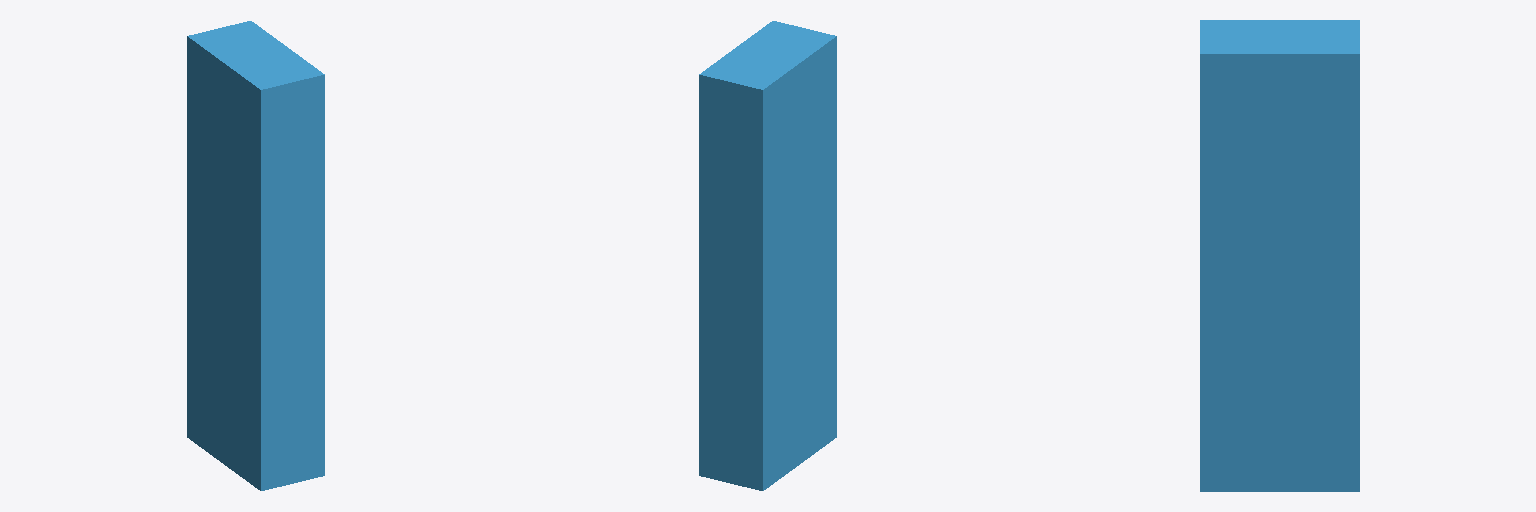
The robot description file, URDF, robot "cube":
<?xml version="1.0"?>
<robot name="cube">
    <link name="base_link"></link>

    <link name="cube_link">
        <visual>
            <origin rpy="0 0 0" xyz="0 0 0" />
            <geometry>
                <box size="0.05 0.1 0.3" />
            </geometry>
        </visual>
        <collision>
            <origin rpy="0 0 0" xyz="0 0 0" />
            <geometry>
                <box size="0.05 0.1 0.3" />
            </geometry>
        </collision>

        <inertial>
            <mass value="0.1" />
            <inertia ixx="0.1" ixy="0.0" ixz="0.0" iyy="0.1" iyz="0.0" izz="0.1" />
        </inertial>
    </link>

    <joint name="cube_base" type="fixed">
        <origin rpy="0 0 0" xyz="0 0 0"/>
        <parent link="base_link"/>
        <child link="cube_link"/>
    </joint>
</robot>

--- Render facts (derived) ---
Views: 3 orthographic renders of the robot side by side, from view 1: azimuth 30°, elevation 25°; view 2: azimuth 150°, elevation 25°; view 3: azimuth 270°, elevation 25°.
Robot: cube — 2 links, 1 joints (1 fixed); root link base_link; default pose: every joint at zero.
Links seen in each view (by area): view 1: cube_link; view 2: cube_link; view 3: cube_link.
Boxes of the visible links, x1,y1,x2,y2 form: cube_link: [187, 21, 324, 490]; cube_link: [699, 21, 836, 490]; cube_link: [1200, 20, 1359, 491].
Bounding box of the posed robot: 0.05 × 0.1 × 0.3 m (x, y, z).
Geometry: primitives only (box / cylinder / sphere), no mesh files.